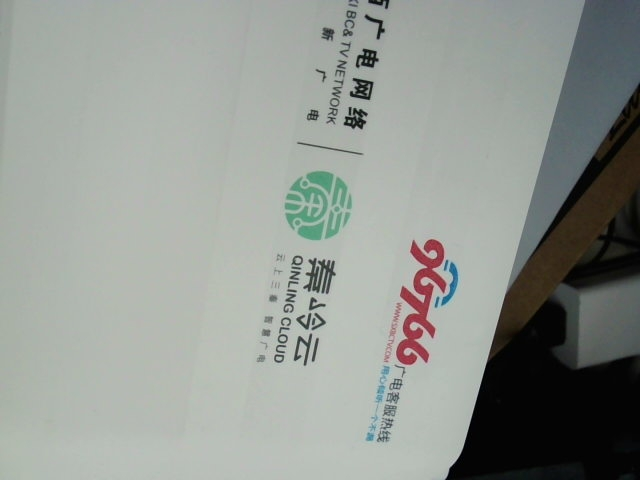AE_QinLing: (247, 154, 358, 381)
